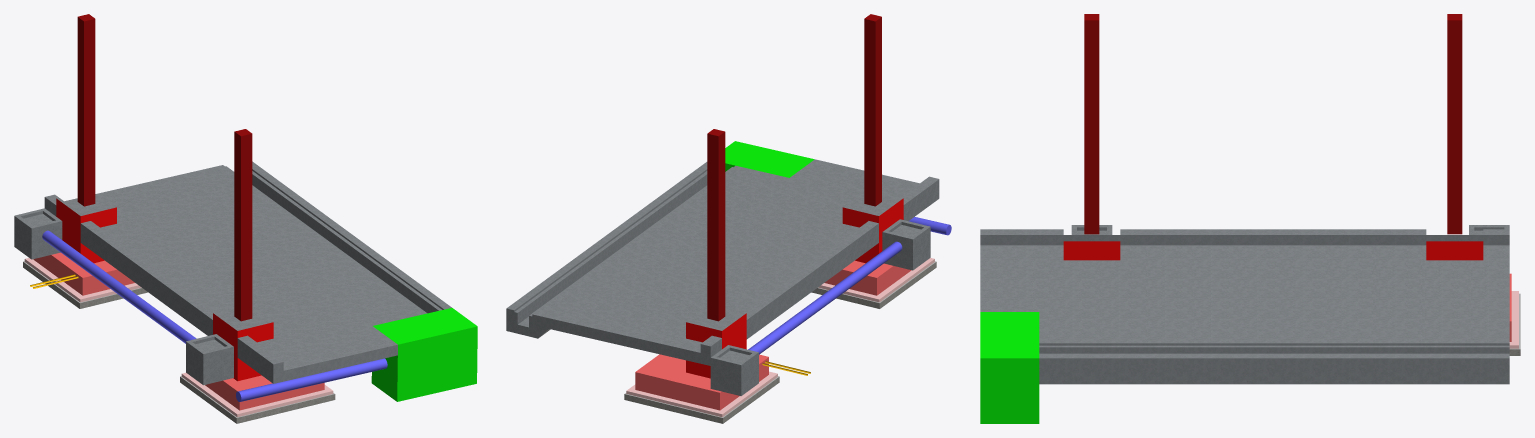
The model's file is washingspace#.glb.
3 views of the same model, side by side, from view 1: azimuth 30°, elevation 25°; view 2: azimuth 150°, elevation 25°; view 3: azimuth 270°, elevation 25° (orthographic). The views are drawn at different scales.
Visible parts, largest first — view 1: washing_space__skp, Group_0, Group_2, Group_3; view 2: washing_space__skp, Group_3, Group_0, Group_2; view 3: washing_space__skp, Group_0.
Boxes of the visible parts, <box> form: washing_space__skp: <box>23,14,451,423</box>; Group_0: <box>371,308,477,401</box>; Group_2: <box>186,334,233,385</box>; Group_3: <box>14,208,62,259</box>; washing_space__skp: <box>506,14,951,423</box>; Group_3: <box>710,345,758,395</box>; Group_0: <box>725,141,814,177</box>; Group_2: <box>882,219,930,270</box>; washing_space__skp: <box>980,14,1520,384</box>; Group_0: <box>980,312,1039,423</box>.
Bounding box in the file's own units: 459 × 442 × 714.
Materials: 12 (4 with a texture image).
